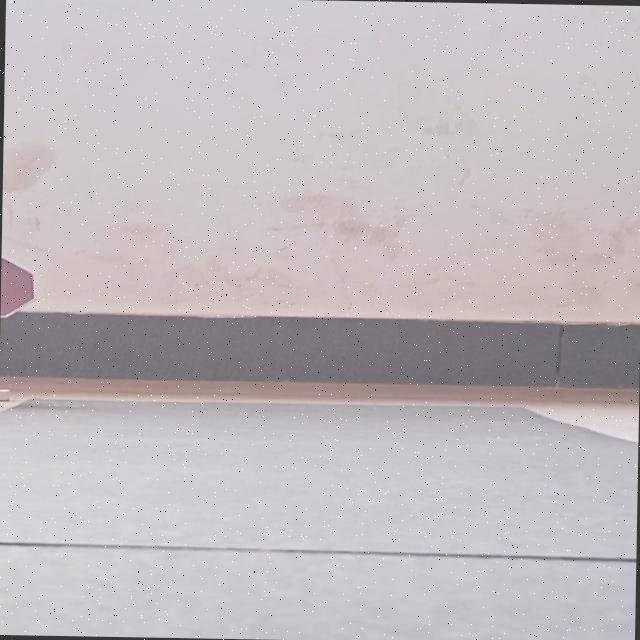Stop: (0, 254, 37, 319)
